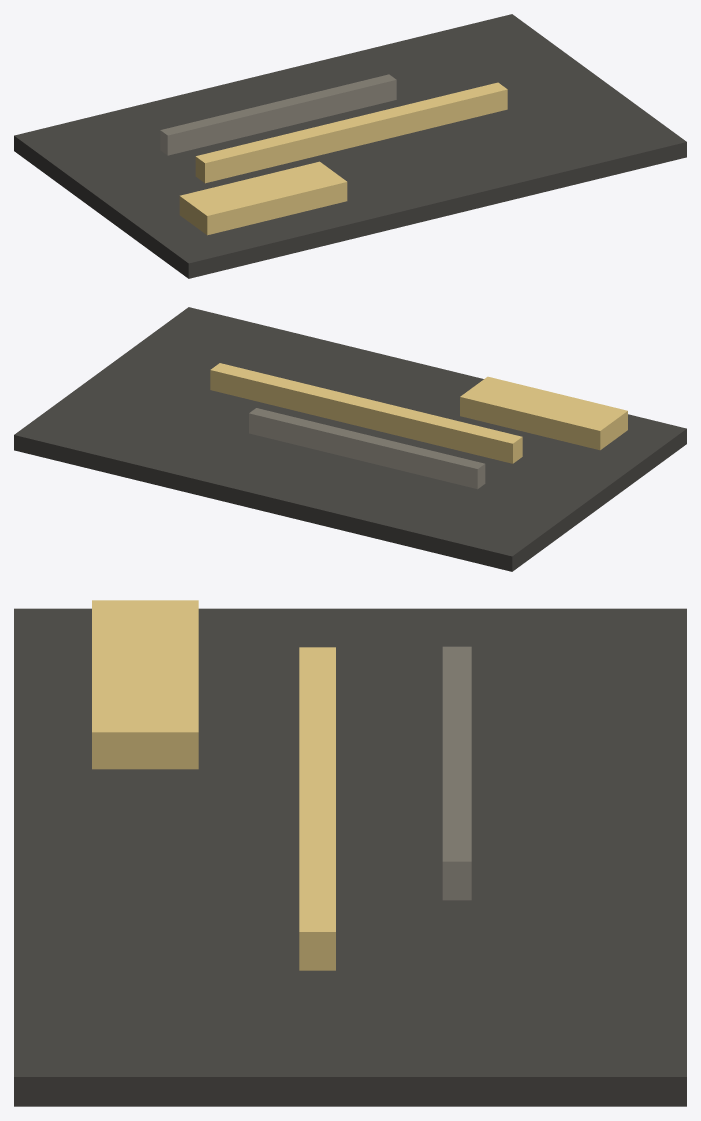
File: floating-scholarship-card.glb
3 renders of one model, top to bottom at view 1: azimuth 30°, elevation 25°; view 2: azimuth 150°, elevation 25°; view 3: azimuth 270°, elevation 25°, orthographic. The views are drawn at different scales.
Visible parts, largest first — view 1: premium_floating_scholarship_card, title_bar, small_gold_match_chip, subtitle_bar; view 2: premium_floating_scholarship_card, title_bar, small_gold_match_chip, subtitle_bar; view 3: premium_floating_scholarship_card, small_gold_match_chip, title_bar, subtitle_bar.
Part boxes in pixels (x1,y1,x2,y2): premium_floating_scholarship_card: (14, 14, 686, 278); title_bar: (195, 82, 507, 183); small_gold_match_chip: (179, 161, 347, 235); subtitle_bar: (160, 74, 396, 155); premium_floating_scholarship_card: (14, 307, 686, 571); title_bar: (210, 363, 522, 463); small_gold_match_chip: (460, 376, 627, 450); subtitle_bar: (249, 408, 484, 488); premium_floating_scholarship_card: (14, 608, 686, 1106); small_gold_match_chip: (92, 600, 198, 769); title_bar: (299, 647, 335, 970); subtitle_bar: (443, 647, 471, 899).
Bounding box in the file's own units: 1.35 × 0.103 × 0.82.
